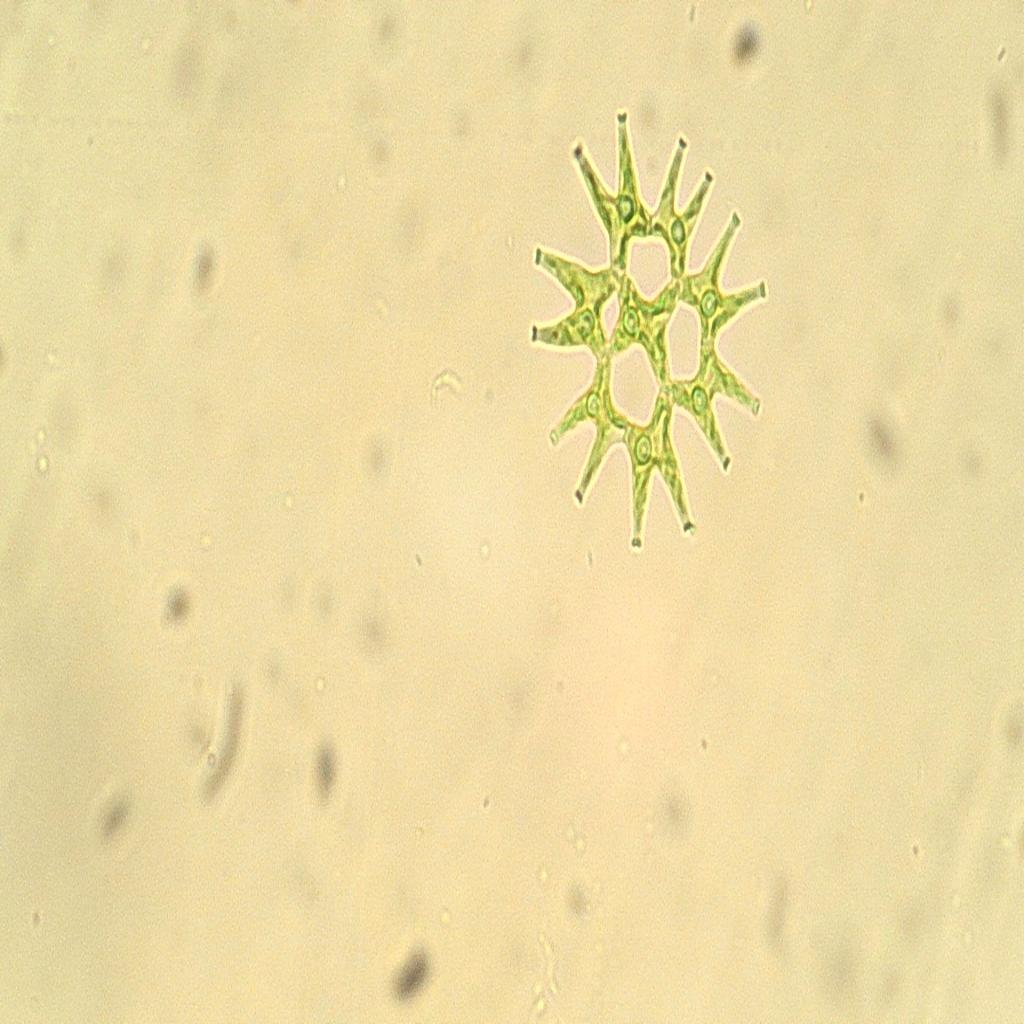Pediastrum_CTH: (520, 100, 780, 571)
